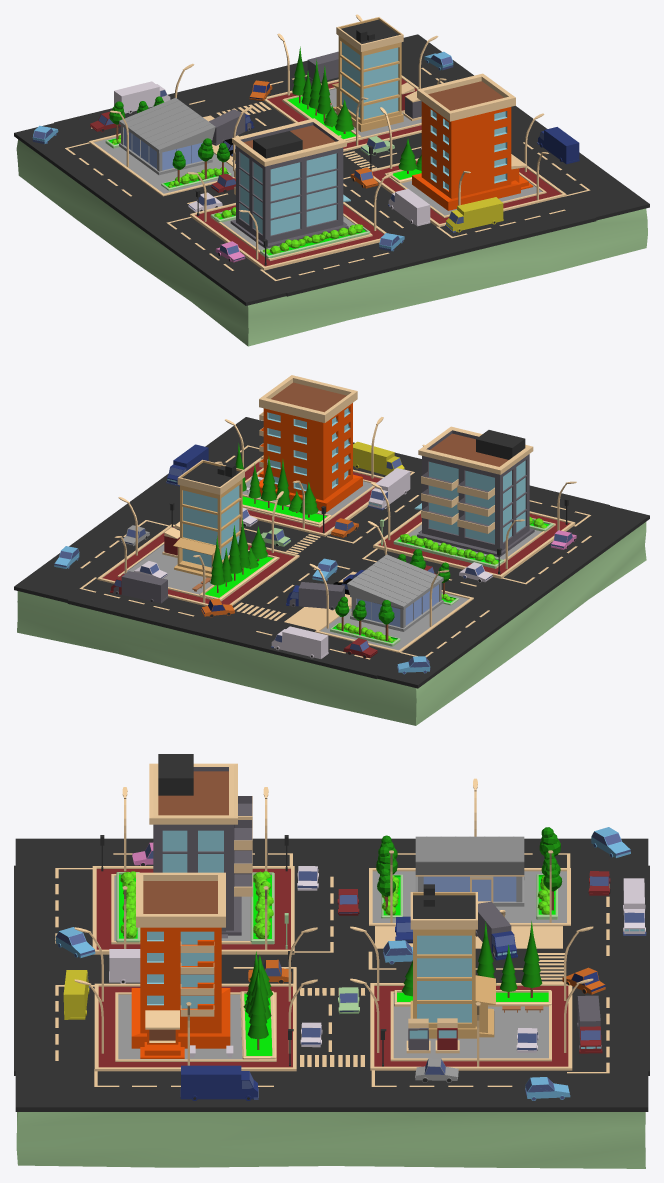
File: city_amy.glb
The picture shows the model from 3 angles, top to bottom: view 1: azimuth 30°, elevation 25°; view 2: azimuth 150°, elevation 25°; view 3: azimuth 270°, elevation 25°; orthographic projection. The views are drawn at different scales.
Parts seen in each view (by area): view 1: ROAD, Floor_6, House, House_2, House_3, Shop, Floor, Floor_4_4, Floor_2, Car_08_4.001, Floor_3, Car_08_4.003 (+10 smaller); view 2: ROAD, Floor_6, House, House_2, House_3, Shop, Floor, Floor_3, Floor_4_4, Trees_2, Floor_2, Floor_4_3 (+11 smaller); view 3: ROAD, Floor_6, House_2, House, House_3, Shop, Floor_2, Floor_4_3, Floor_3, Floor, Floor_4_4, Floor_4.001 (+23 smaller).
Part boxes in pixels (box(x1,y1,x2,y2)): ROAD: box(14, 34, 649, 305); Floor_6: box(16, 139, 647, 346); House: box(230, 118, 350, 248); House_2: box(412, 73, 533, 210); House_3: box(332, 17, 403, 132); Shop: box(119, 97, 215, 175); Floor: box(190, 202, 386, 270); Floor_4_4: box(88, 133, 235, 196); Floor_2: box(371, 154, 566, 227); Car_08_4.001: box(445, 197, 503, 232); Floor_3: box(264, 75, 421, 151); Car_08_4.003: box(114, 81, 170, 113); ROAD: box(14, 417, 649, 688); Floor_6: box(17, 522, 646, 725); House: box(414, 426, 534, 556); House_2: box(257, 375, 362, 512); House_3: box(173, 459, 244, 578); Shop: box(347, 554, 443, 631); Floor: box(373, 510, 575, 578); Floor_3: box(97, 524, 299, 606); Floor_4_4: box(315, 590, 473, 652); Trees_2: box(199, 494, 331, 601); Floor_2: box(244, 457, 383, 536); Floor_4_3: box(117, 542, 279, 599); ROAD: box(14, 838, 649, 1111); Floor_6: box(16, 1112, 645, 1168); House_2: box(131, 872, 230, 1058); House: box(149, 754, 252, 938); House_3: box(410, 884, 495, 1038); Shop: box(415, 836, 524, 906); Floor_2: box(94, 983, 296, 1071); Floor_4_3: box(390, 991, 551, 1061); Floor_3: box(370, 983, 572, 1070); Floor: box(92, 866, 294, 954); Floor_4_4: box(369, 868, 570, 926); Floor_4.001: box(115, 992, 276, 1061).
Size of the model in its own units: 21.92 by 7.44 by 21.92.
